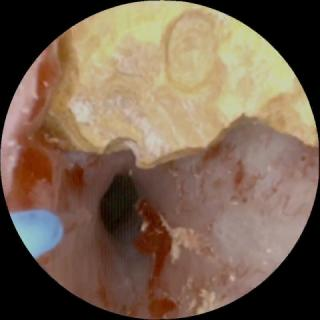fiber: (13, 209, 62, 257)
stone: (49, 6, 316, 167)
tissue: (6, 46, 314, 314)
